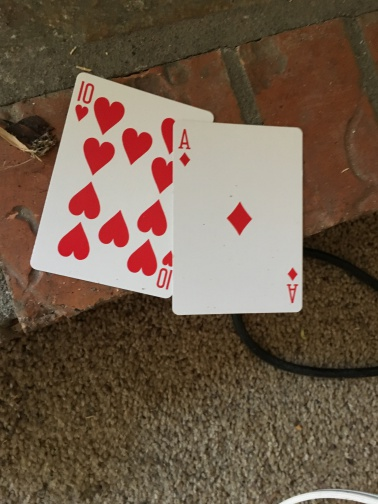ace: (171, 119, 308, 316)
ten: (32, 71, 175, 300)
